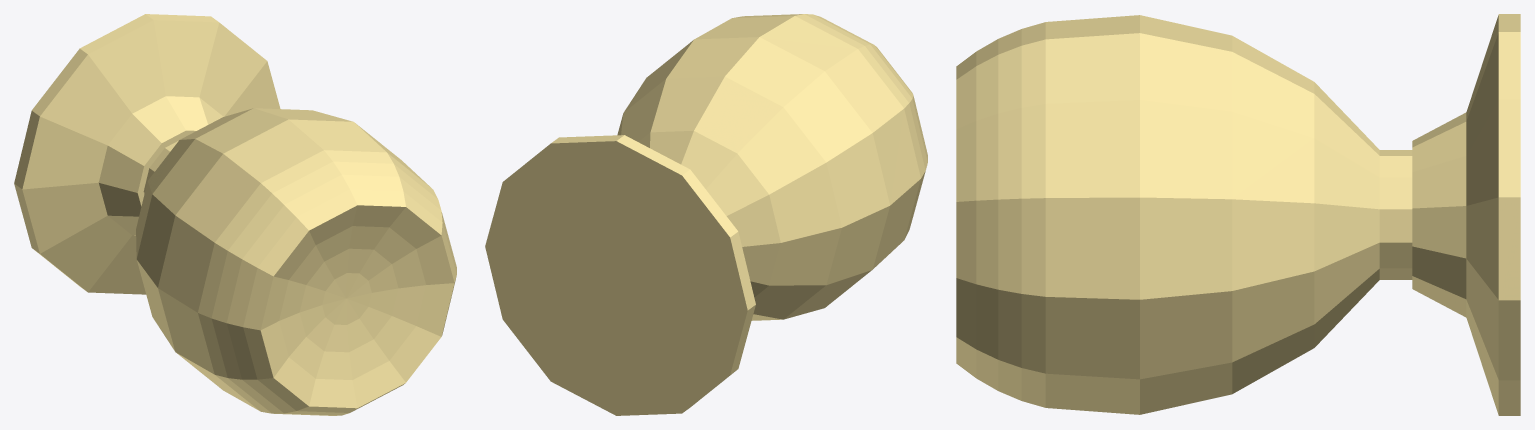
3 renders of one model, left to right at view 1: azimuth 30°, elevation 25°; view 2: azimuth 150°, elevation 25°; view 3: azimuth 270°, elevation 25°, orthographic. The views are drawn at different scales.
Visible parts, largest first — view 1: instance_1.005, instance_1.004; view 2: instance_1.005, instance_1.004; view 3: instance_1.005, instance_1.004.
Part boxes in pixels (x1,y1,x2,y2): instance_1.005: [136, 108, 456, 415]; instance_1.004: [14, 14, 280, 294]; instance_1.005: [617, 14, 927, 320]; instance_1.004: [485, 135, 755, 415]; instance_1.005: [956, 15, 1412, 414]; instance_1.004: [1412, 14, 1520, 415].
Size of the model in its own units: 0.0543 by 0.0759 by 0.0543.
